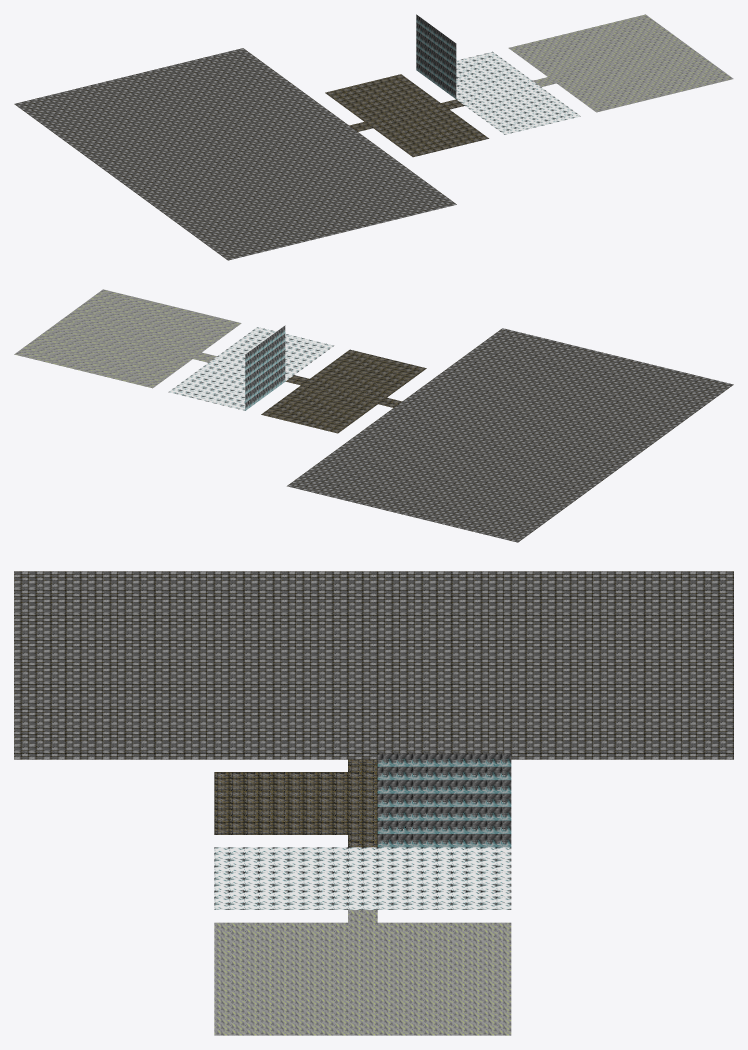
File: Cube-detach.obj
3 renders of one model, top to bottom at view 1: azimuth 30°, elevation 25°; view 2: azimuth 150°, elevation 25°; view 3: azimuth 270°, elevation 25°, orthographic. The views are drawn at different scales.
Visible parts, largest first — view 1: Cube-detach; view 2: Cube-detach; view 3: Cube-detach.
Part boxes in pixels (x1,y1,x2,y2): Cube-detach: (14, 14, 733, 260); Cube-detach: (14, 289, 733, 542); Cube-detach: (14, 571, 733, 1035).
Bounding box in the file's own units: 74 × 7 × 48.5.
Materials: 5 (5 with a texture image).
